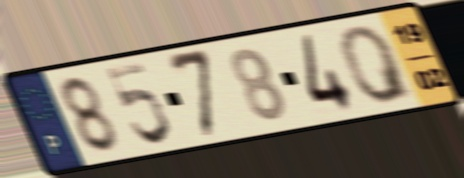4: (300, 30, 355, 114)
5: (102, 59, 175, 149)
7: (165, 46, 221, 144)
8: (58, 73, 119, 155), (229, 45, 289, 123)
Q: (336, 22, 419, 107)
